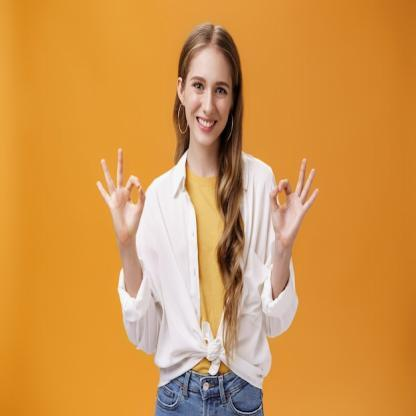ok: (93, 144, 148, 244), (268, 156, 321, 250)
